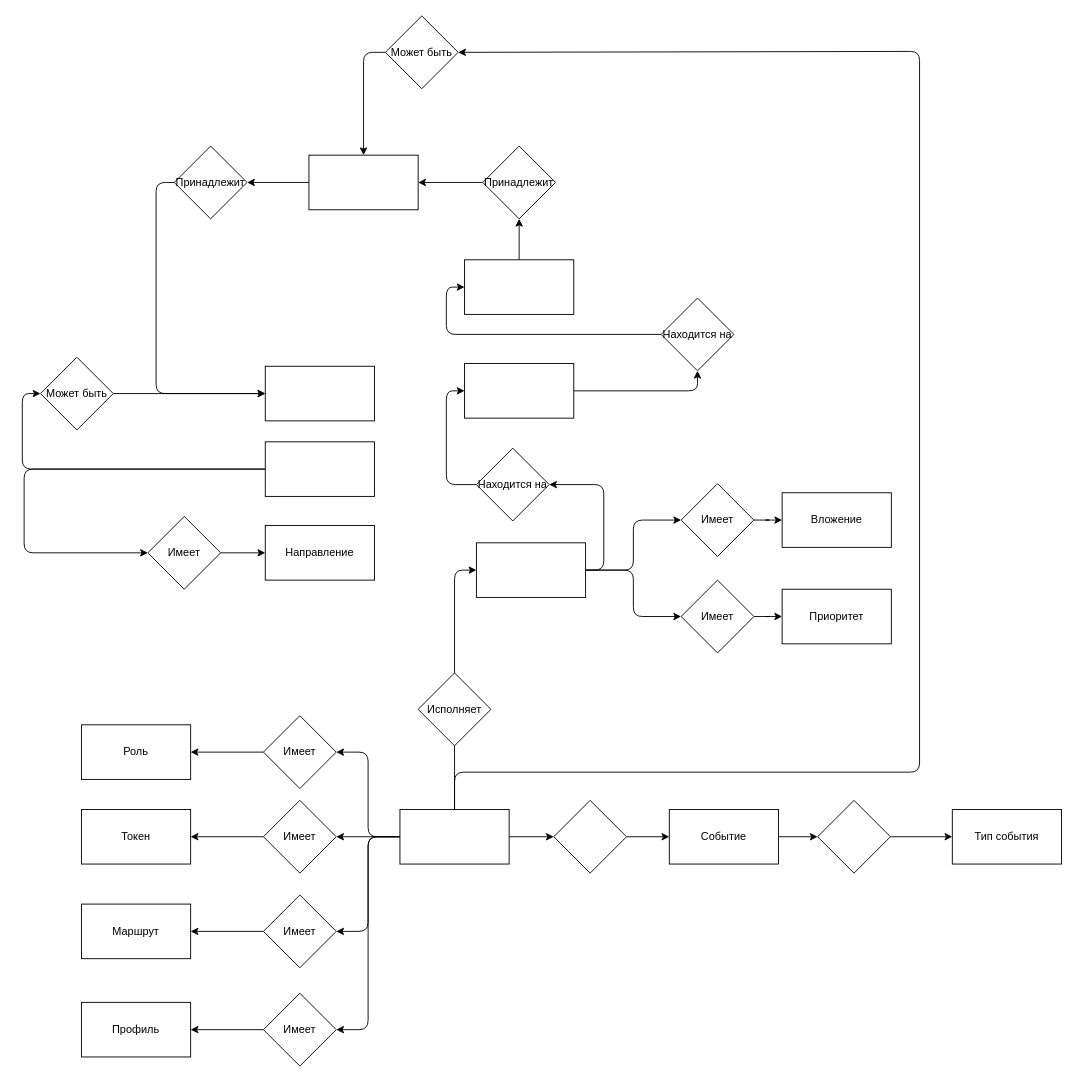
The diagram is 1077 pixels wide and 1082 high, and some of its shapes have lost their labels. Here are the shapes that lost their labels. From the top down, the box of each, then its label:
(308, 154, 418, 210): Фирма
(464, 259, 574, 314): Доска
(264, 365, 374, 421): Сессия
(464, 363, 574, 418): Лист
(264, 441, 374, 496): Проект
(475, 542, 586, 597): Задача
(399, 809, 509, 864): Пользователь
(553, 799, 627, 873): Создает
(817, 799, 890, 873): Бывает
